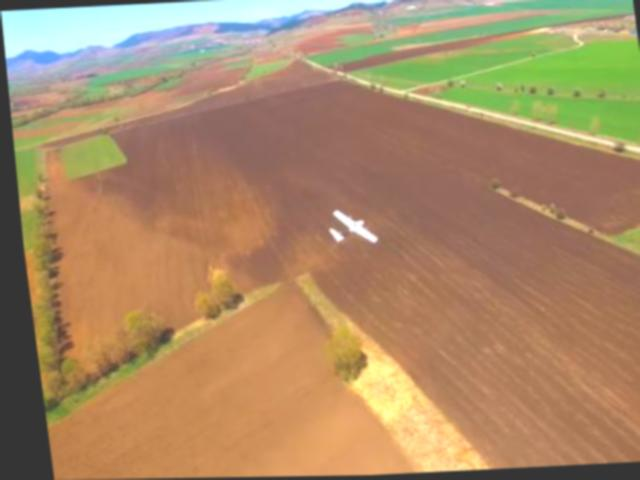uav: (316, 202, 377, 255)
